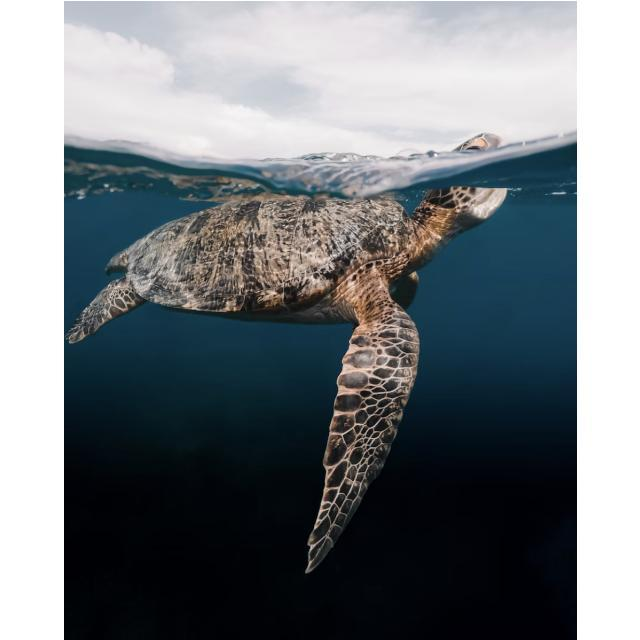turtle: (69, 130, 513, 580)
